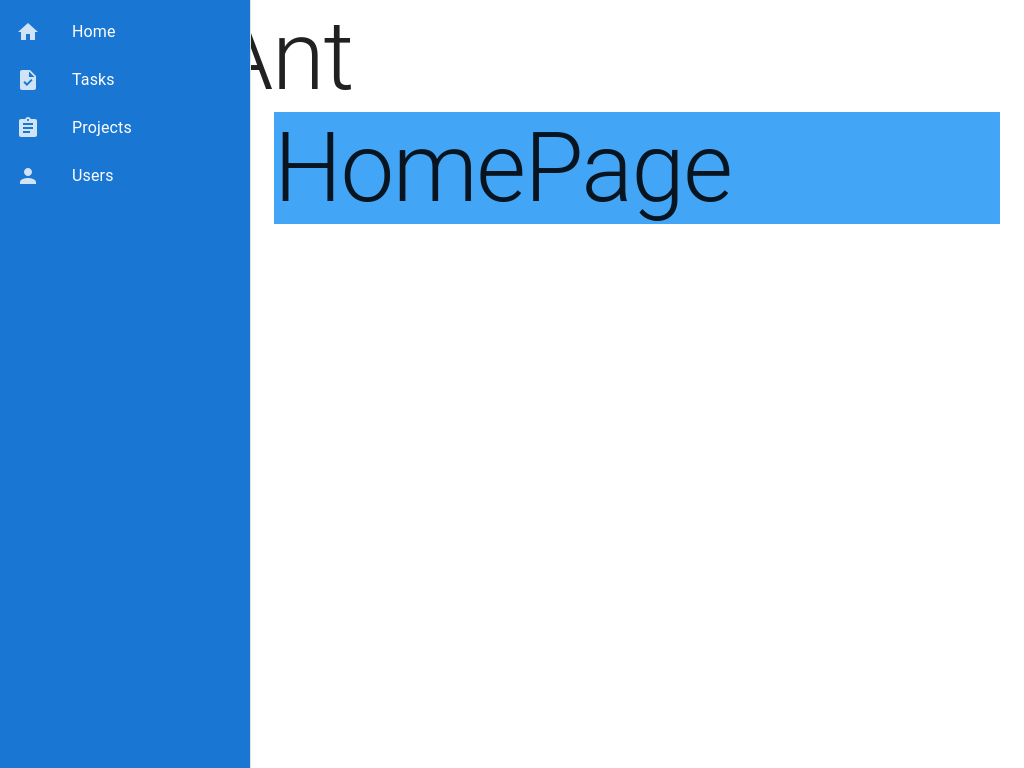
<BaseRoutes /> › When user click on 'tasks' link... › It redirects user on 'Tasks' page
What coordinates should you click on to do the following:
click the link with test id "Tasks"
I would click on:
 (93, 80)
Its box is [16,68,115,92].
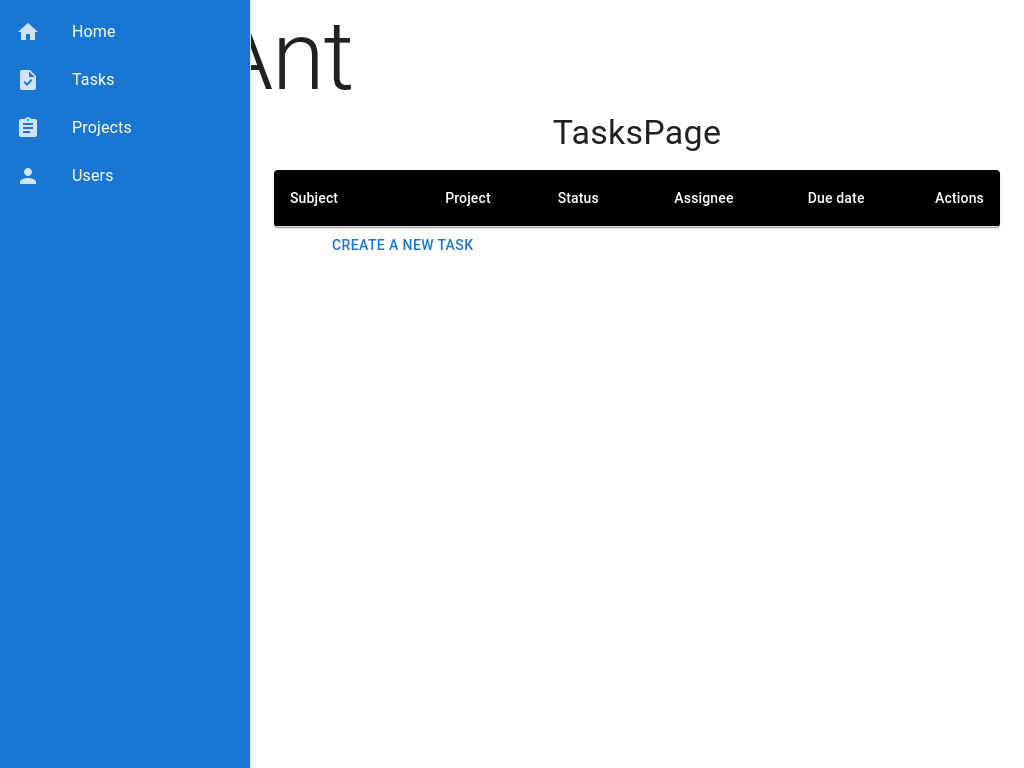
Now the heading "TasksPage" is shown, box [553,112,721,152]
